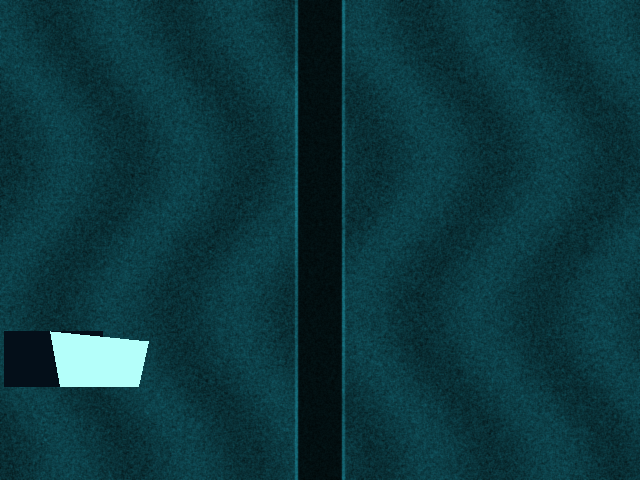Other Man-made Debris: (50, 331, 148, 386)
